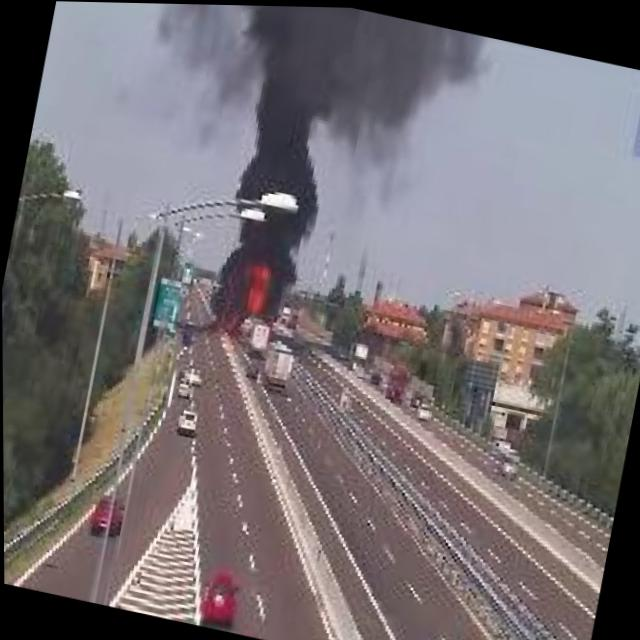fire: (213, 245, 283, 338)
